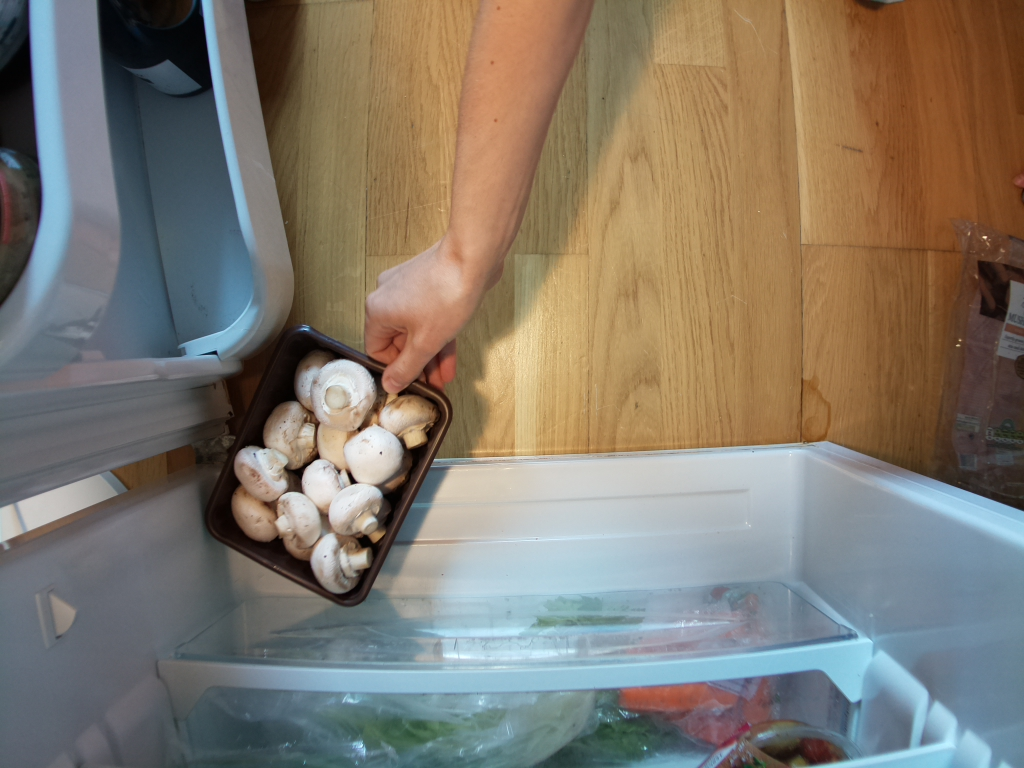mushrooms: (185, 318, 455, 616)
